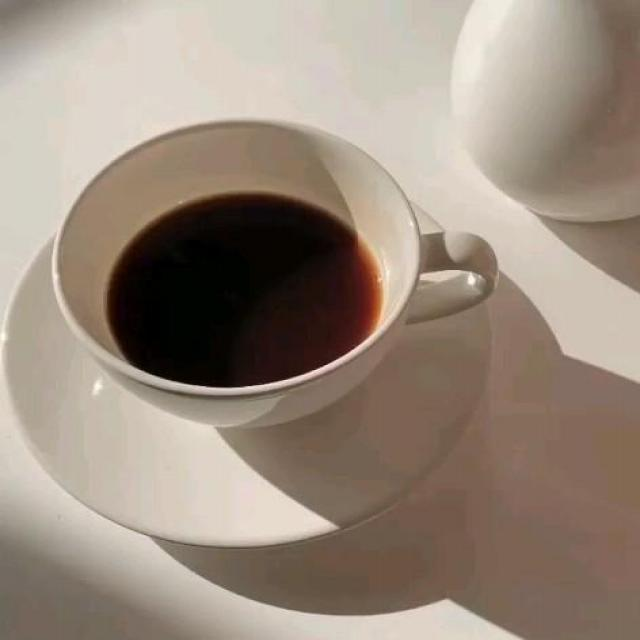cup-handle: (48, 111, 502, 432)
